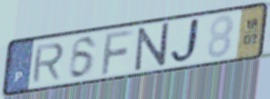6: (67, 36, 99, 81)
8: (205, 12, 237, 61)
F: (100, 27, 137, 76)
J: (169, 16, 205, 67)
N: (134, 21, 171, 74)
R: (30, 41, 66, 85)
